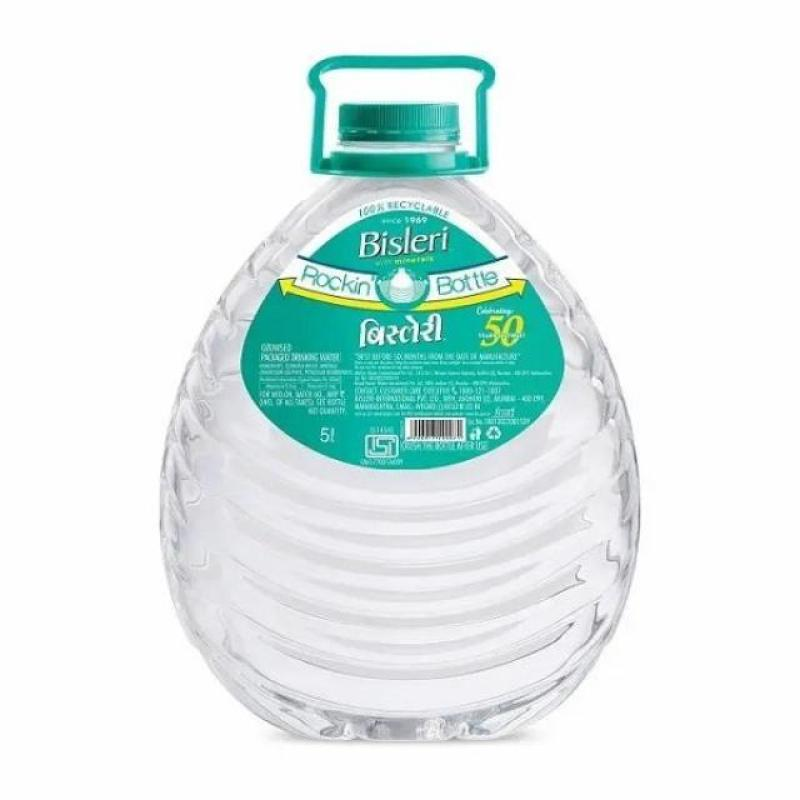botella: (157, 106, 647, 742)
